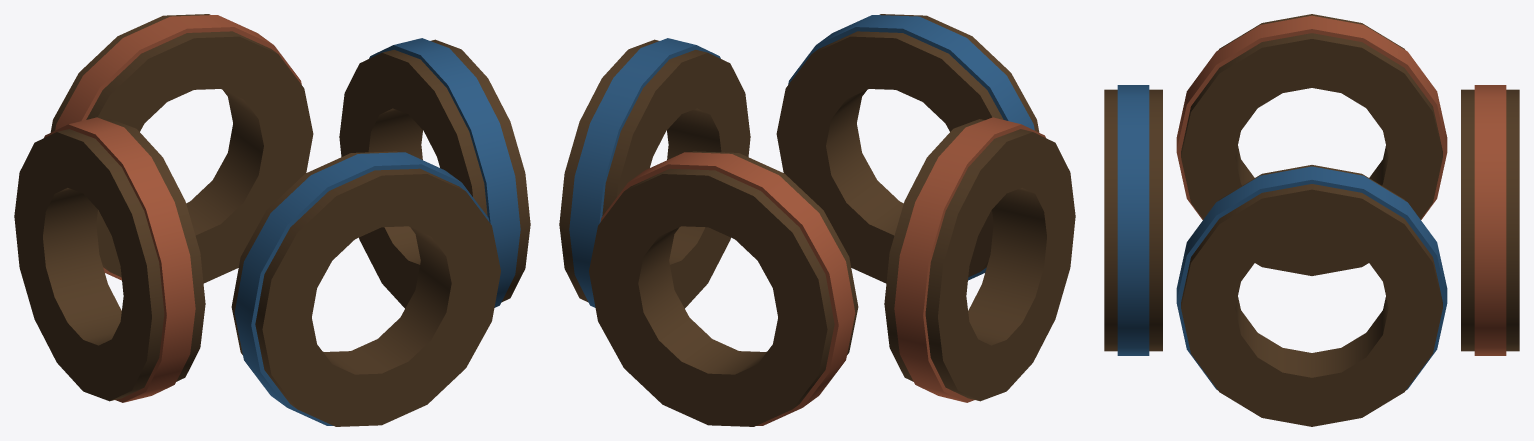
The model's file is rcs4_coil.obj.
The picture shows the model from 3 angles, left to right: view 1: azimuth 30°, elevation 25°; view 2: azimuth 150°, elevation 25°; view 3: azimuth 270°, elevation 25°; orthographic projection. The views are drawn at different scales.
Visible parts, largest first — view 1: rcs4_coil; view 2: rcs4_coil; view 3: rcs4_coil.
Boxes of the visible parts, box(x1,y1,x2,y2) form: rcs4_coil: box(14, 14, 530, 426); rcs4_coil: box(559, 14, 1075, 426); rcs4_coil: box(1104, 14, 1519, 426).
Bounding box in the file's own units: 0.92 × 0.6 × 0.92.
